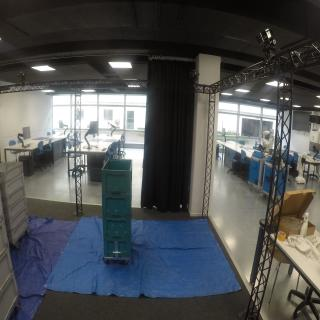BoxB4: (102, 159, 133, 196), (102, 195, 132, 220), (105, 237, 134, 260), (103, 219, 132, 241)
